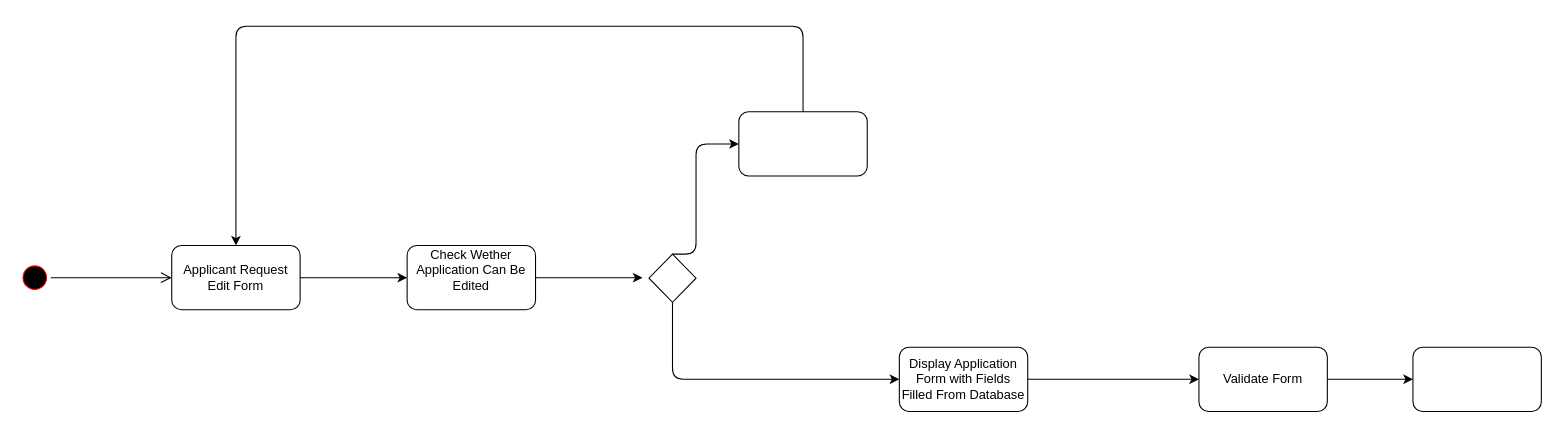
Some shapes in this 1560 by 430 pixel diagram are drawn without their labels. The shapes that lost their labels are listed below. From the top down, each one's box as (x1, y1, x2, y2) in pixels, then its label:
(738, 111, 867, 176): Show Error Message
(1412, 346, 1541, 411): Save Info To Database
